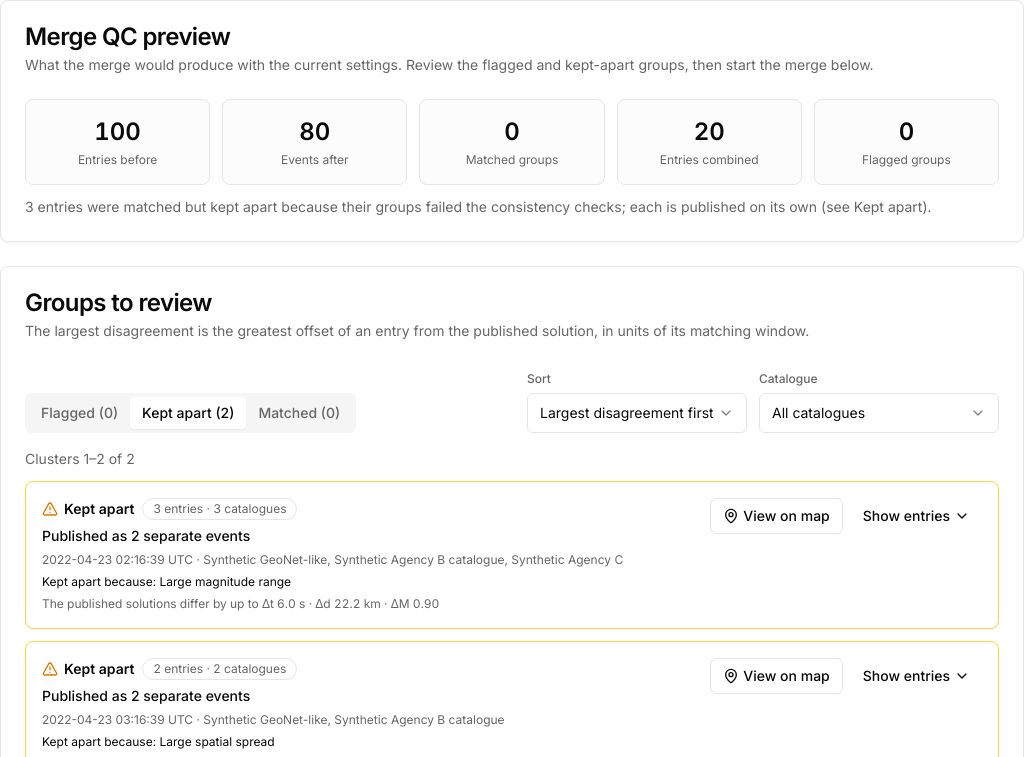
Test: kept-apart groups are shown together, by splitKey › lists each published event of a cluster as its own row group
Step 1. Click the button "Show entries" in the row of "3 catalogues" → (916, 516), box [851,498,982,534]
(page scrolled)
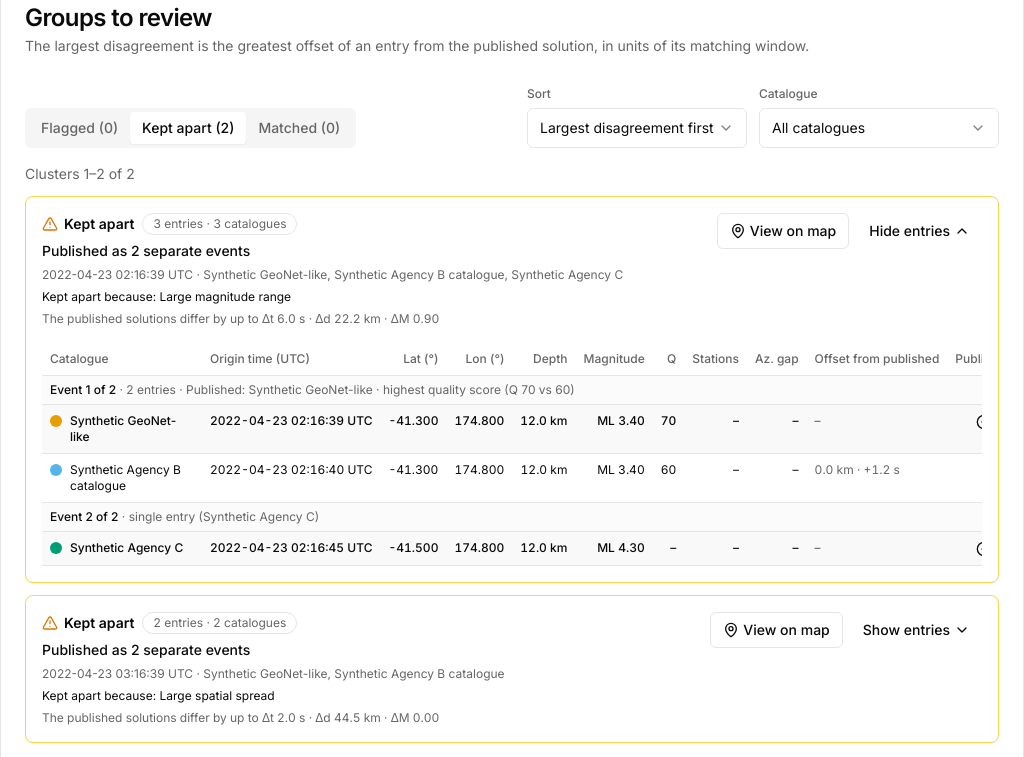
expect the element showing "Event 2 of 2 · single entry (Synthetic Agency C)" is shown: met, box [50,509,319,524]
